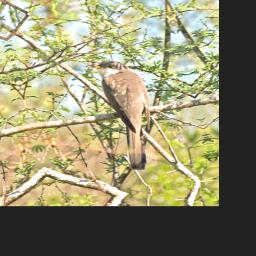Cuckoo: (85, 55, 170, 174)
